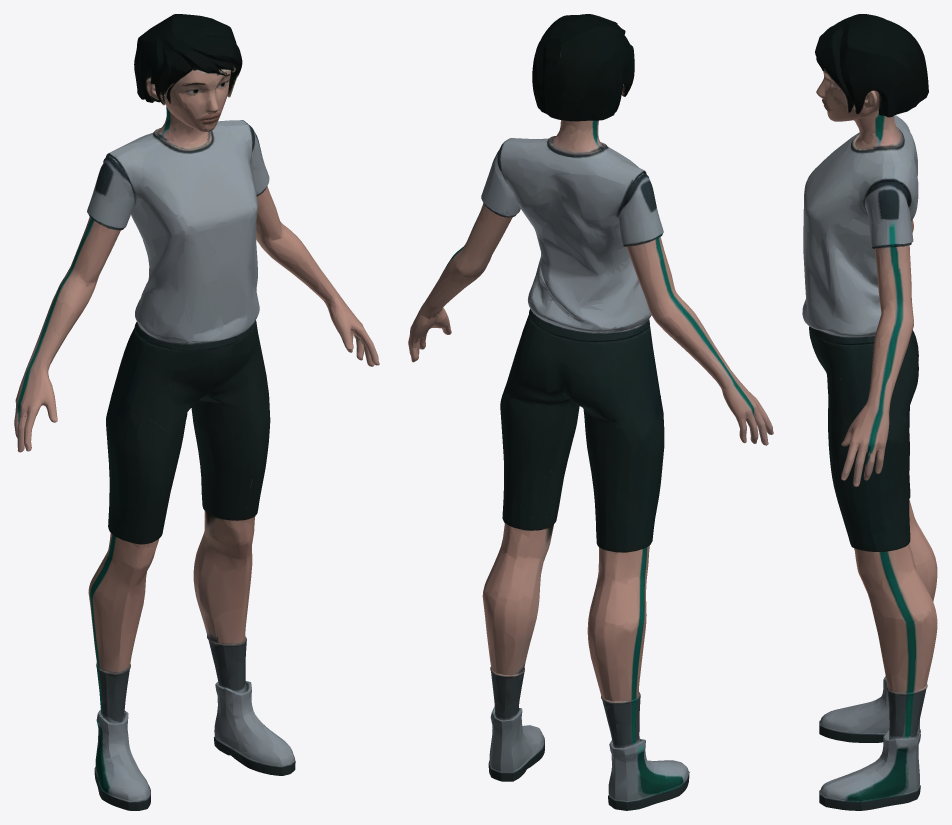
Rendered from A4-paint-tee.glb.
3 renders of one model, left to right at view 1: azimuth 30°, elevation 25°; view 2: azimuth 150°, elevation 25°; view 3: azimuth 270°, elevation 25°, orthographic.
Visible parts, largest first — view 1: Mesh_0; view 2: Mesh_0; view 3: Mesh_0.
Boxes of the visible parts, x1,y1,x2,y2 form: Mesh_0: [14, 14, 379, 810]; Mesh_0: [408, 14, 773, 810]; Mesh_0: [802, 14, 937, 810].
Bounding box in the file's own units: 0.9384 × 1.9 × 0.3125.
1 material, 1 textured.
